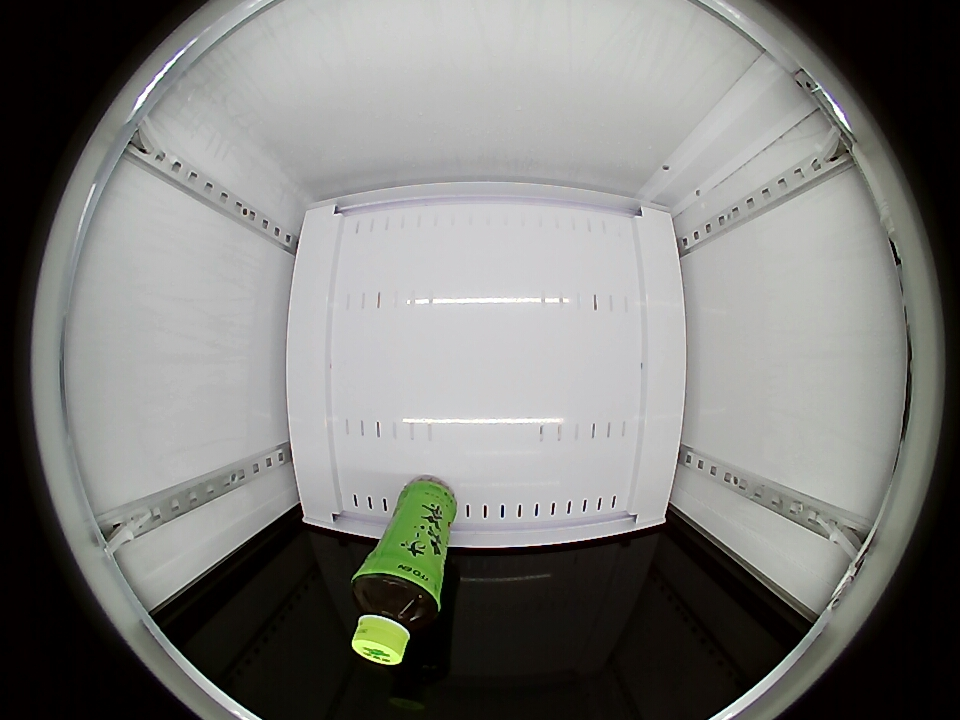yitengyuan: (350, 560, 444, 666)
